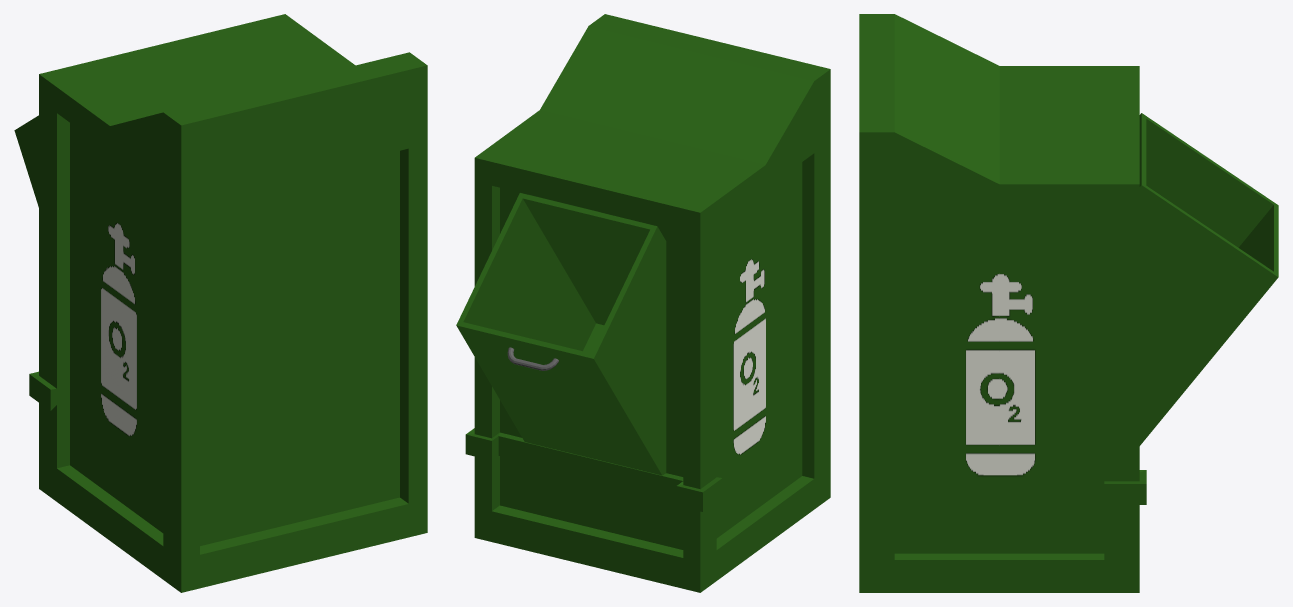
File: oxygendepo4.fbx
3 views of the same model, side by side, from view 1: azimuth 30°, elevation 25°; view 2: azimuth 150°, elevation 25°; view 3: azimuth 270°, elevation 25° (orthographic). The views are drawn at different scales.
Parts seen in each view (by area): view 1: Cube; view 2: Cube; view 3: Cube.
Part boxes in pixels (x1,y1,x2,y2): Cube: (14,14,427,592); Cube: (456,14,830,592); Cube: (859,14,1278,592).
Size of the model in its own units: 210 by 363 by 299.
Materials: 4 (1 with a texture image).
